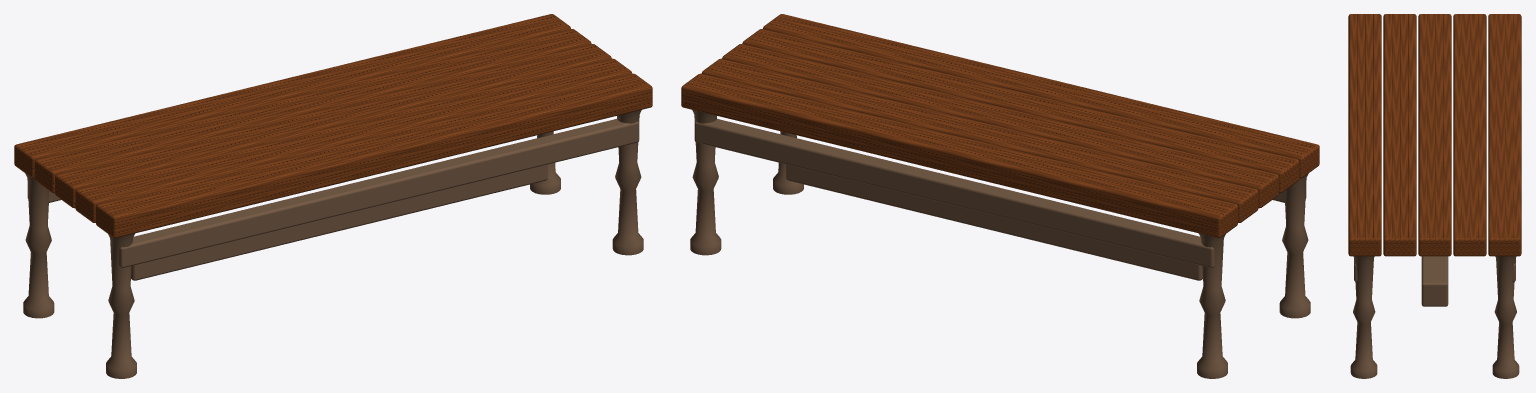
The model's file is adventurers-tavern-and-guild-hall-long-trestle-table-b2a78a4d__24688.glb.
3 renders of one model, left to right at view 1: azimuth 30°, elevation 25°; view 2: azimuth 150°, elevation 25°; view 3: azimuth 270°, elevation 25°, orthographic. The views are drawn at different scales.
Visible parts, largest first — view 1: long-trestle-table; view 2: long-trestle-table; view 3: long-trestle-table.
Part boxes in pixels (box(x1,y1,x2,y2)): long-trestle-table: box(14, 14, 652, 378); long-trestle-table: box(681, 14, 1319, 378); long-trestle-table: box(1348, 14, 1521, 378).
Bounding box in the file's own units: 2.6 × 0.7601 × 0.8421.
Materials: 2 (1 with a texture image).
